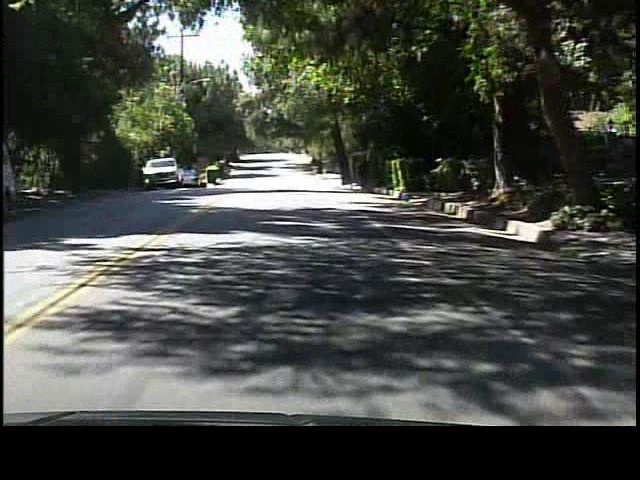person: (355, 154, 373, 194)
